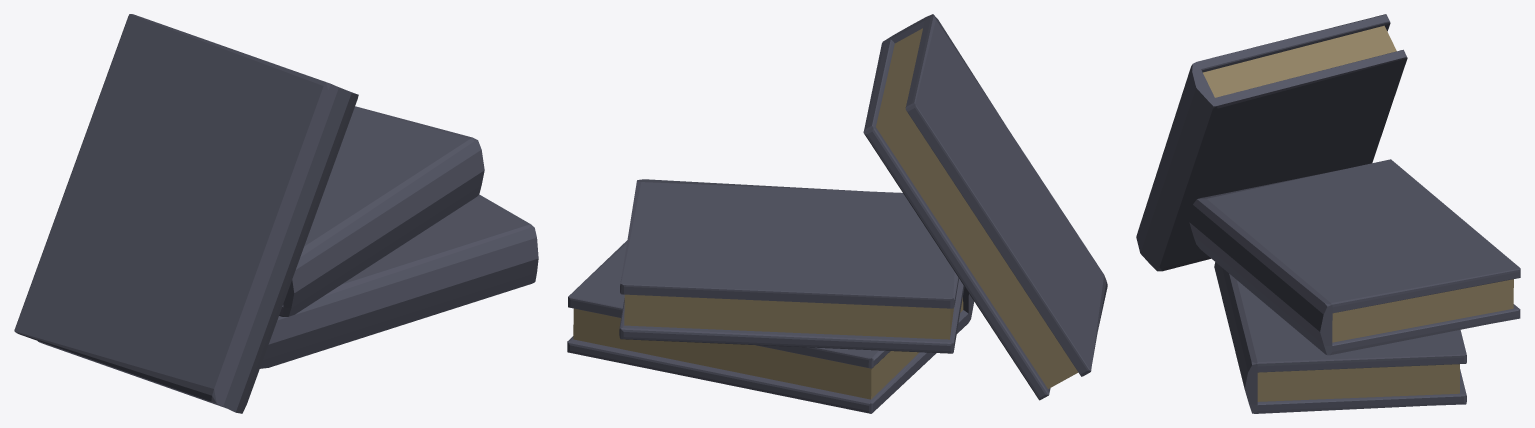
The model's file is book2.fbx.
3 views of the same model, side by side, from view 1: azimuth 30°, elevation 25°; view 2: azimuth 150°, elevation 25°; view 3: azimuth 270°, elevation 25° (orthographic). The views are drawn at different scales.
Visible parts, largest first — view 1: 3 book/1; view 2: 3 book/1; view 3: 3 book/1.
Boxes of the visible parts, <box> form: 3 book/1: <box>14,14,538,413</box>; 3 book/1: <box>567,14,1107,413</box>; 3 book/1: <box>1136,14,1520,413</box>.
Size of the model in its own units: 70.5 by 42.58 by 55.95.
